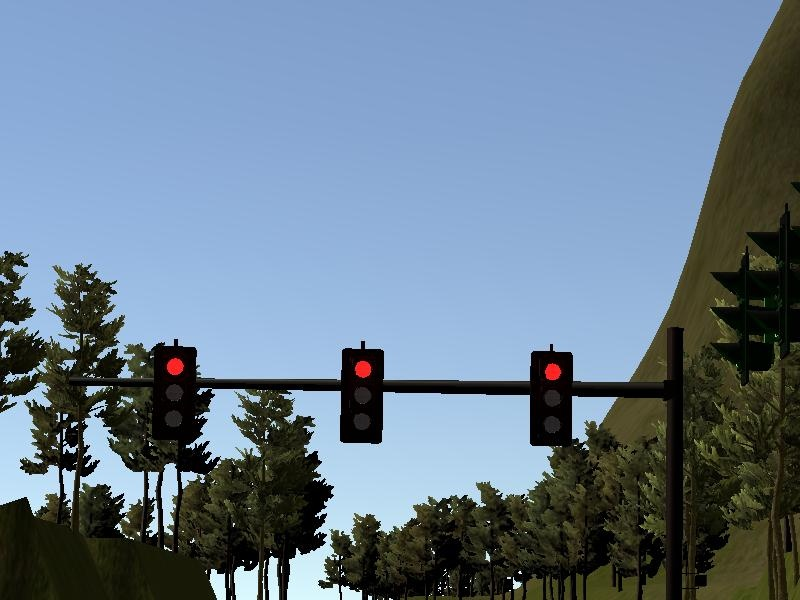red: (337, 344, 387, 446), (150, 343, 198, 445), (527, 348, 574, 449)
